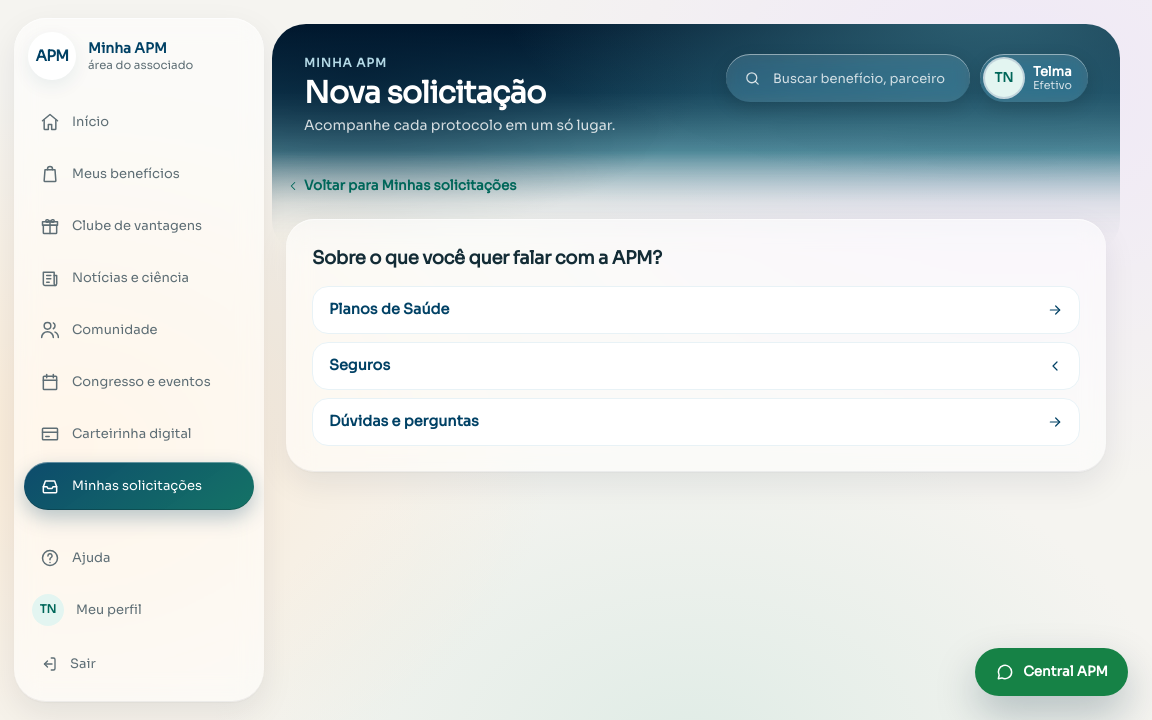
Test: Nova solicitação — catálogo comum com o App (ADR-0024) › carência mostra a data do servidor; serviço desligado recarrega o catálogo sem o tipo
Click the button "Planos de Saúde" at (389, 309), box [312,286,1080,334]
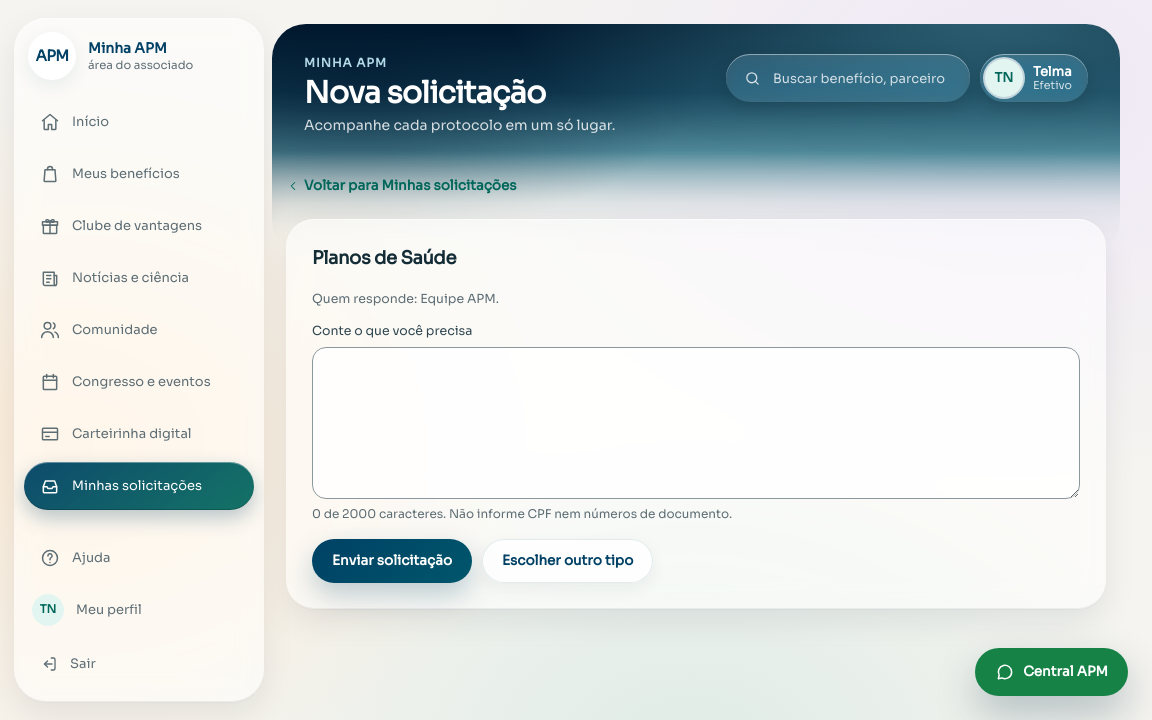
Type "Quero conhecer os planos disponíveis." into the text box labelled "Conte o que você precisa" at (696, 423), box [312,347,1080,499]
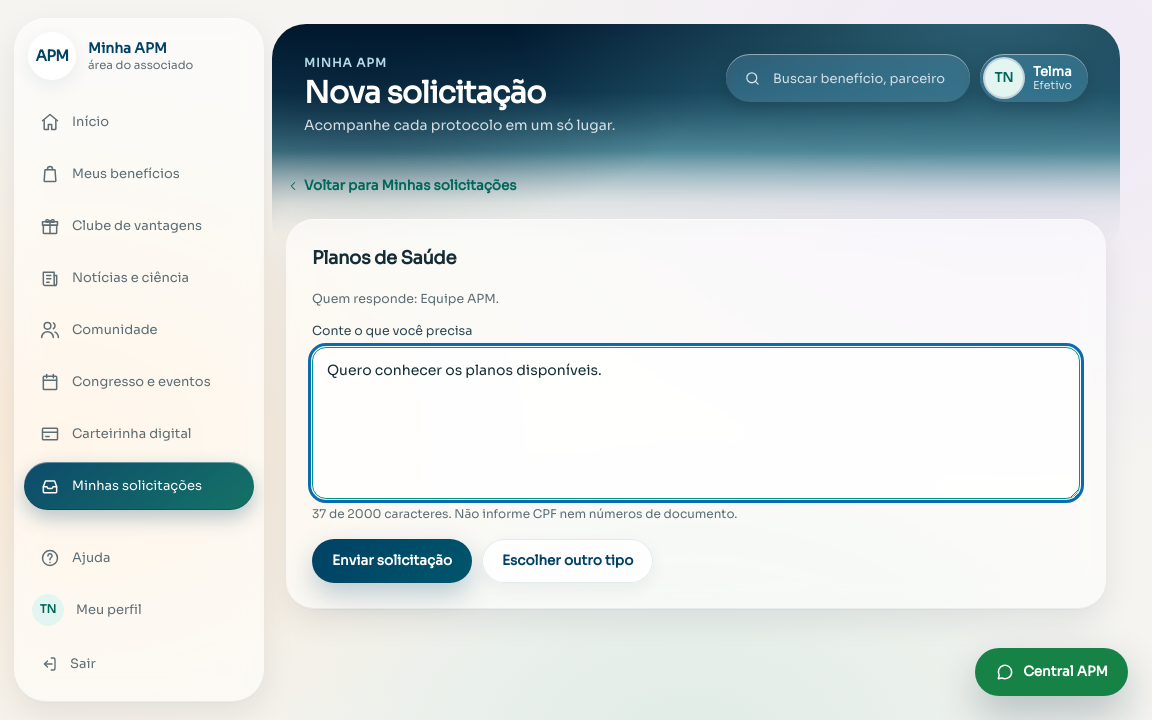
Click the button "Enviar solicitação" at (392, 561), box [312,539,472,583]
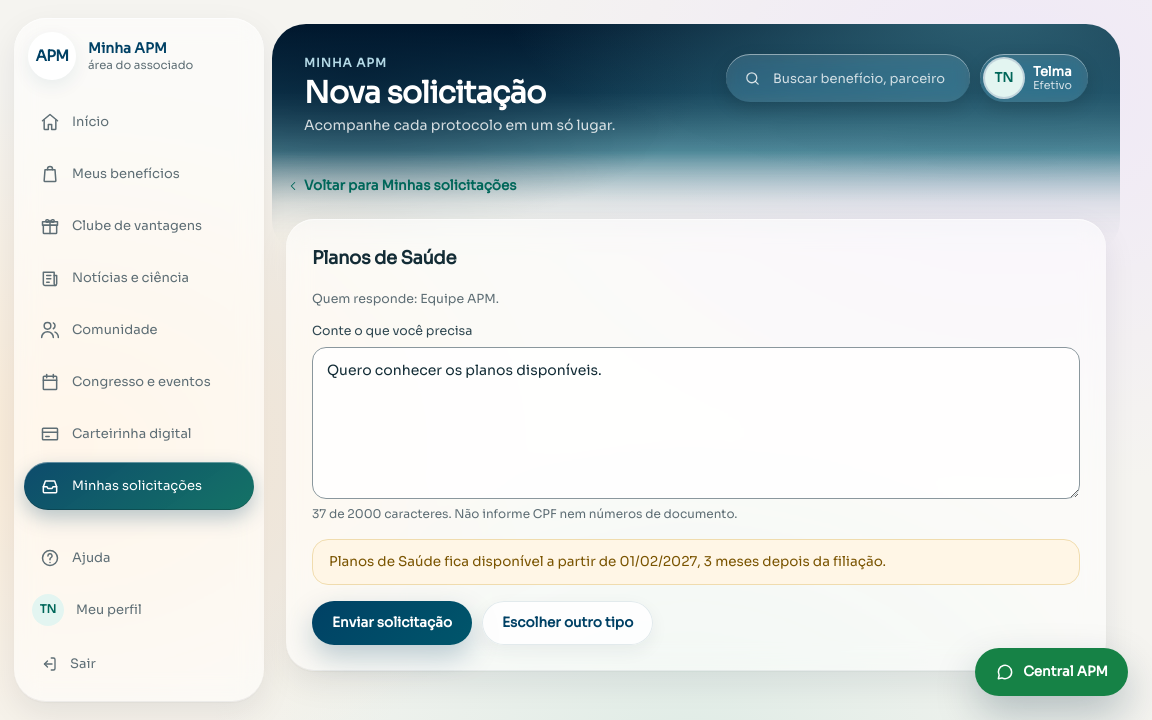
Check: the text "disponível a partir de 01/02/2027" is shown, box [329,553,886,570]
Click the button "Enviar solicitação" at (392, 623), box [312,601,472,645]
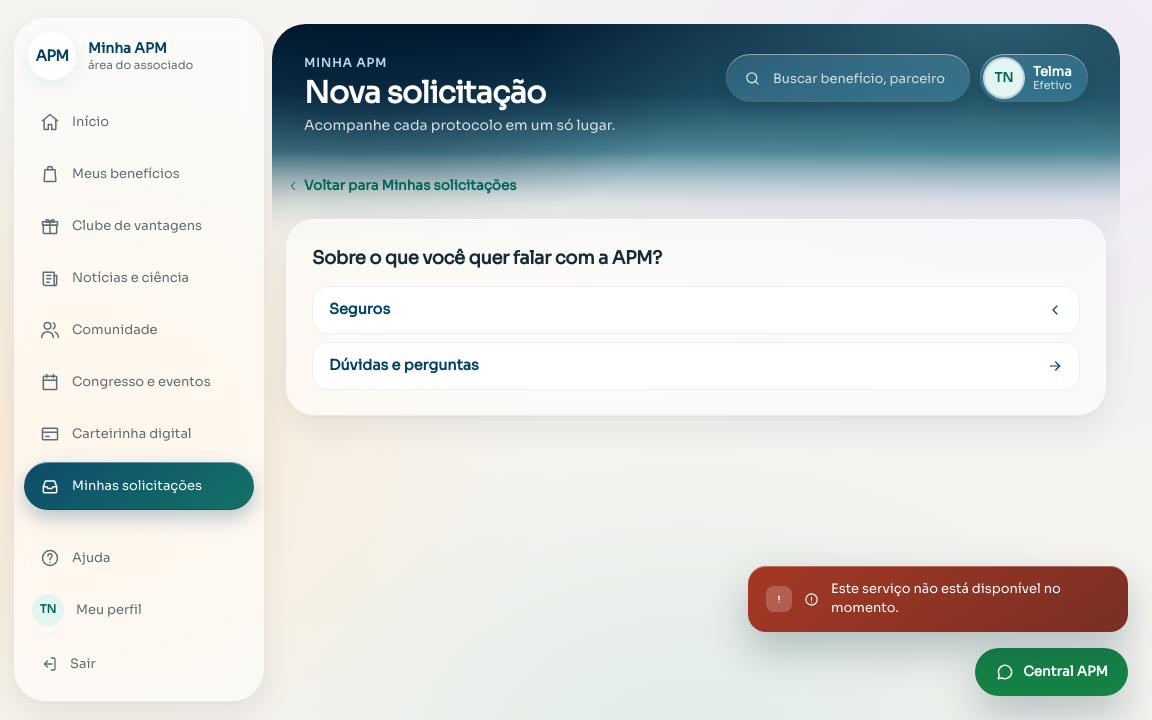
Check: the list named "Tipos de solicitação" is shown, box [312,286,1080,390]
Check: the heading "Planos de Saúde" is gone
